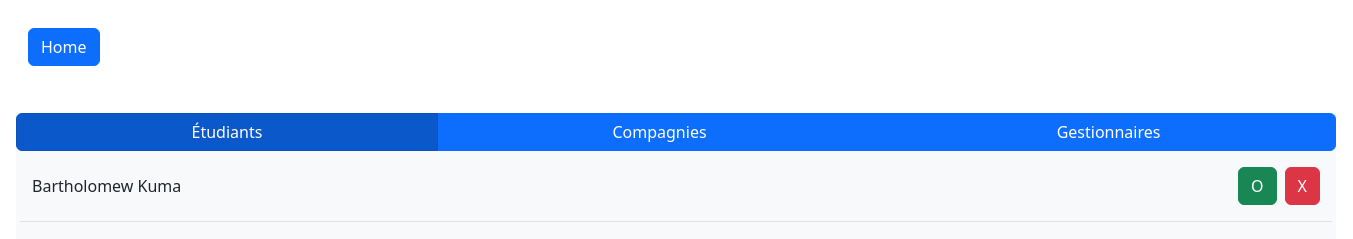
Test: UserValidationPageTests › UserValidationPageCompanyTest
The image size is (1353, 239).
Click the label with test id "companyInput".
click(660, 132)  # box x1=437 y1=113 x2=882 y2=151
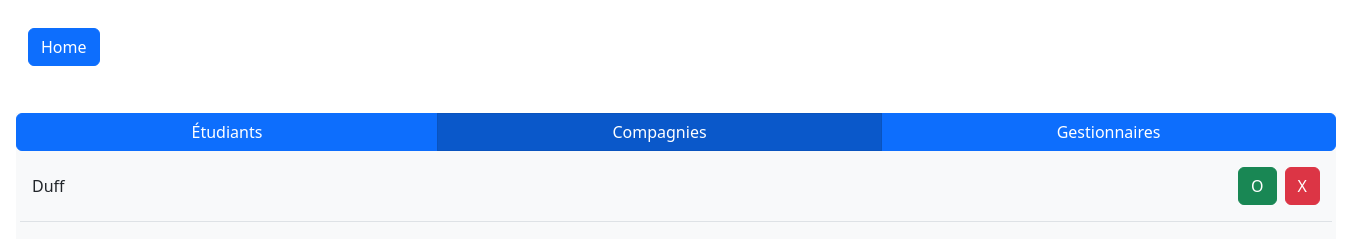
Check: the button "O" is shown, box x1=1238 y1=167 x2=1277 y2=205
Check: the text "Duff" is shown, box x1=32 y1=174 x2=65 y2=198
